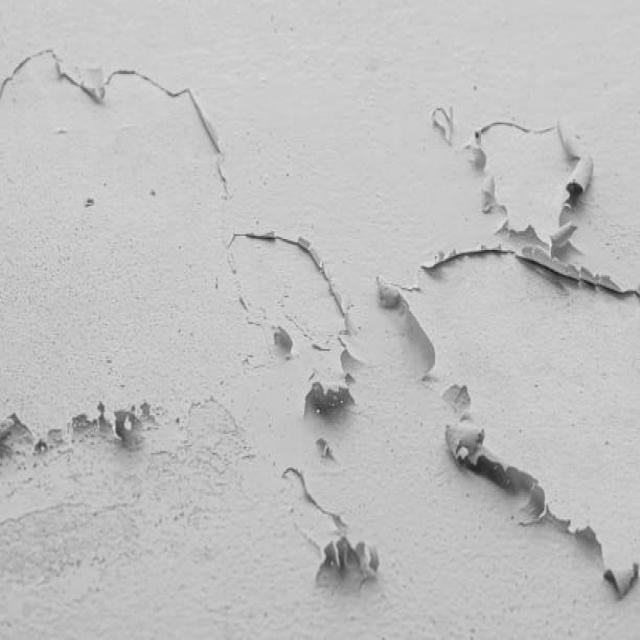peeling paint: (0, 40, 640, 605)
